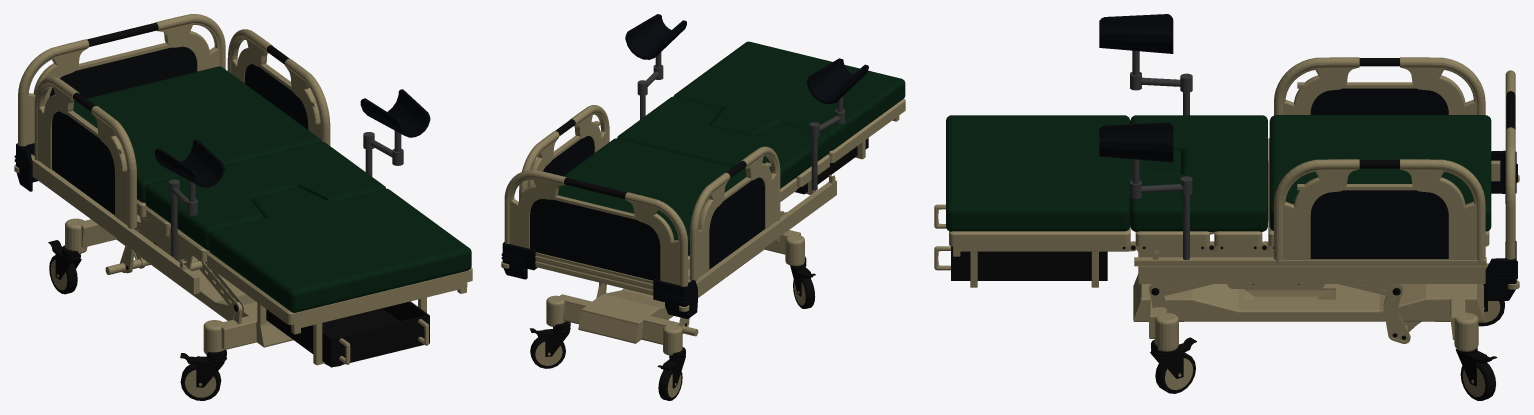
Rendered from Bed_Verlos.fbx.
3 views of the same model, side by side, from view 1: azimuth 30°, elevation 25°; view 2: azimuth 150°, elevation 25°; view 3: azimuth 270°, elevation 25° (orthographic). The views are drawn at different scales.
Visible parts, largest first — view 1: verlos_bed:Layer1, verlos_bed:Layer2; view 2: verlos_bed:Layer1, verlos_bed:Layer2; view 3: verlos_bed:Layer1, verlos_bed:Layer2.
Boxes of the visible parts, left/top/right/bottom form: verlos_bed:Layer1: left=14, top=14, right=430, bottom=400; verlos_bed:Layer2: left=207, top=187, right=472, bottom=367; verlos_bed:Layer1: left=501, top=14, right=868, bottom=400; verlos_bed:Layer2: left=673, top=41, right=905, bottom=194; verlos_bed:Layer1: left=1099, top=14, right=1519, bottom=400; verlos_bed:Layer2: left=934, top=115, right=1181, bottom=287.
Size of the model in its own units: 120 by 122 by 228.
